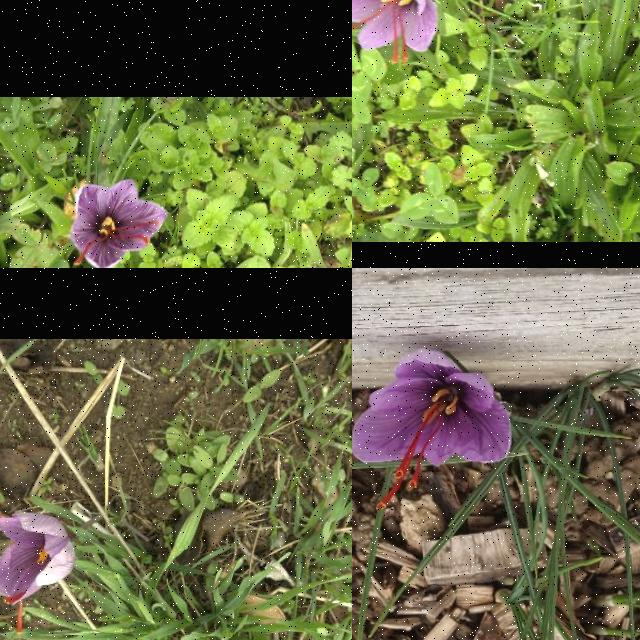flower: (352, 350, 514, 511), (0, 510, 75, 632), (72, 180, 168, 268), (352, 0, 438, 66)
